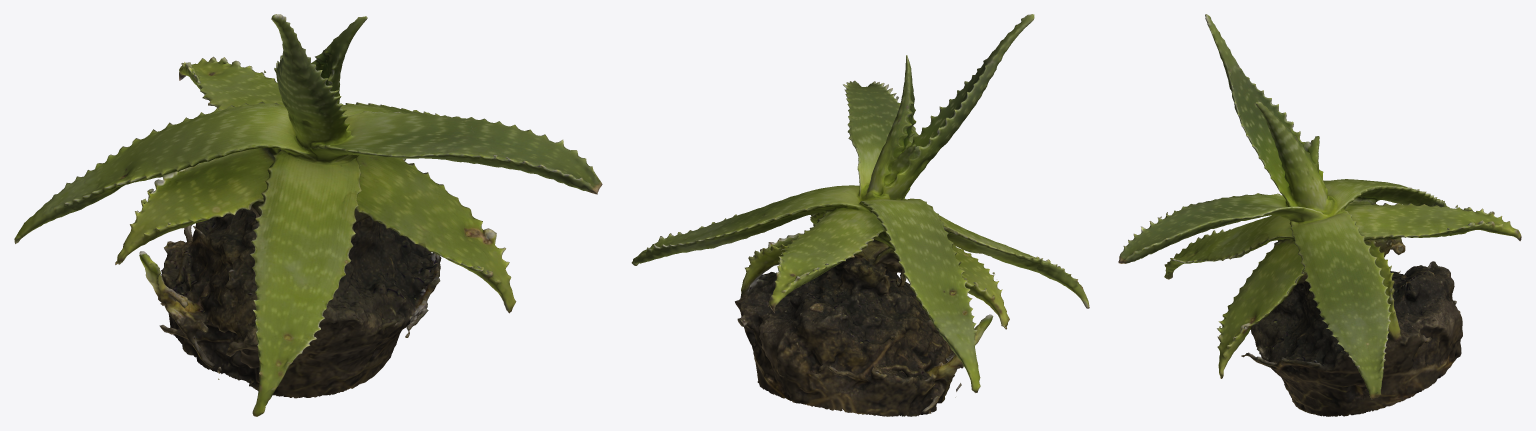
Rendered from aloe_vera.glb.
3 views of the same model, side by side, from view 1: azimuth 30°, elevation 25°; view 2: azimuth 150°, elevation 25°; view 3: azimuth 270°, elevation 25° (orthographic). The views are drawn at different scales.
Parts seen in each view (by area): view 1: Object_2; view 2: Object_2; view 3: Object_2.
Boxes of the visible parts, box(x1,y1,x2,y2) form: Object_2: box(14, 14, 602, 416); Object_2: box(631, 14, 1089, 416); Object_2: box(1118, 14, 1521, 416).
Bounding box in the file's own units: 4.96 × 4.42 × 4.77.
1 material, 1 textured.
